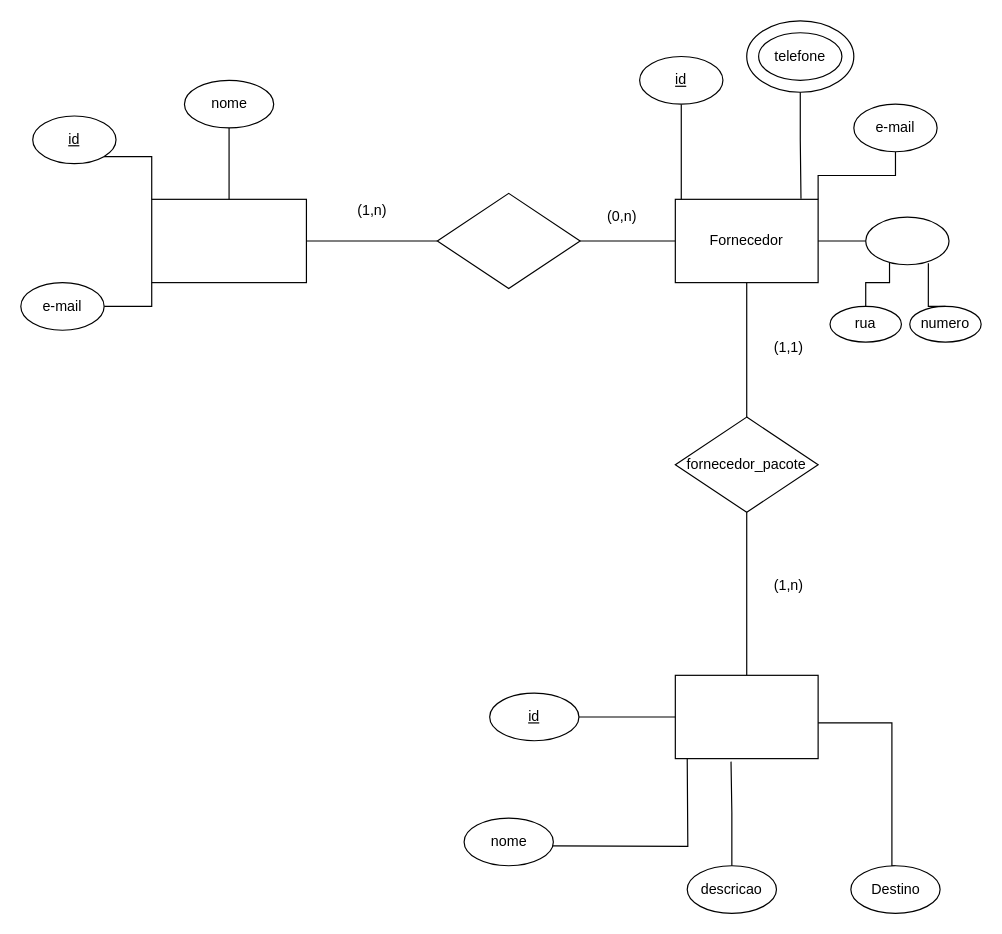
Some shapes in this 1002 by 934 pixel diagram are drawn without their labels. Each missing label, with the centre of its shape:
"Admin" goes at (x=228, y=240).
"admin_fornecedor" goes at (x=508, y=240).
"endereço" goes at (x=907, y=240).
"Pacote" goes at (x=746, y=716).
